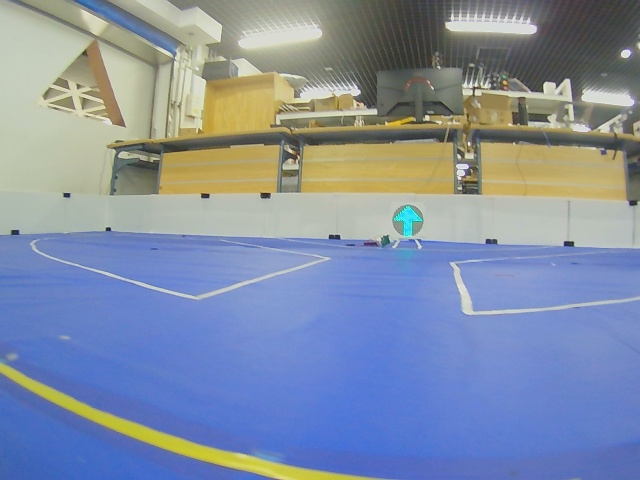straight_green: (392, 205, 424, 237)
